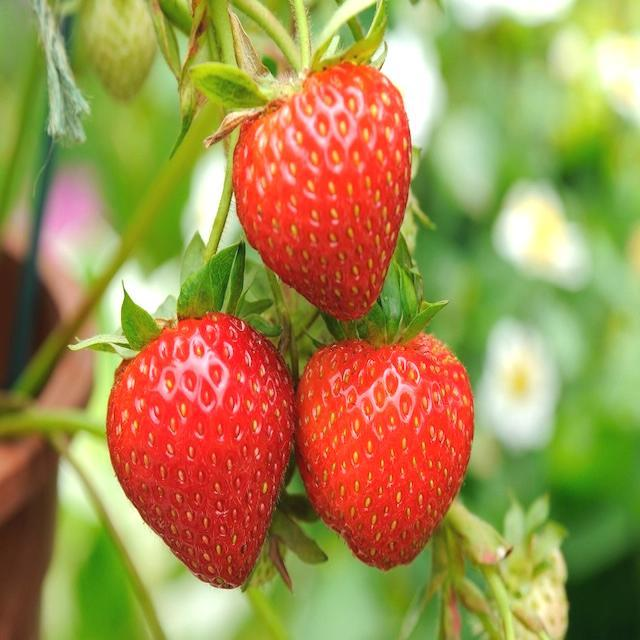strawberry: (106, 312, 295, 588), (232, 62, 411, 320), (296, 334, 474, 570)
